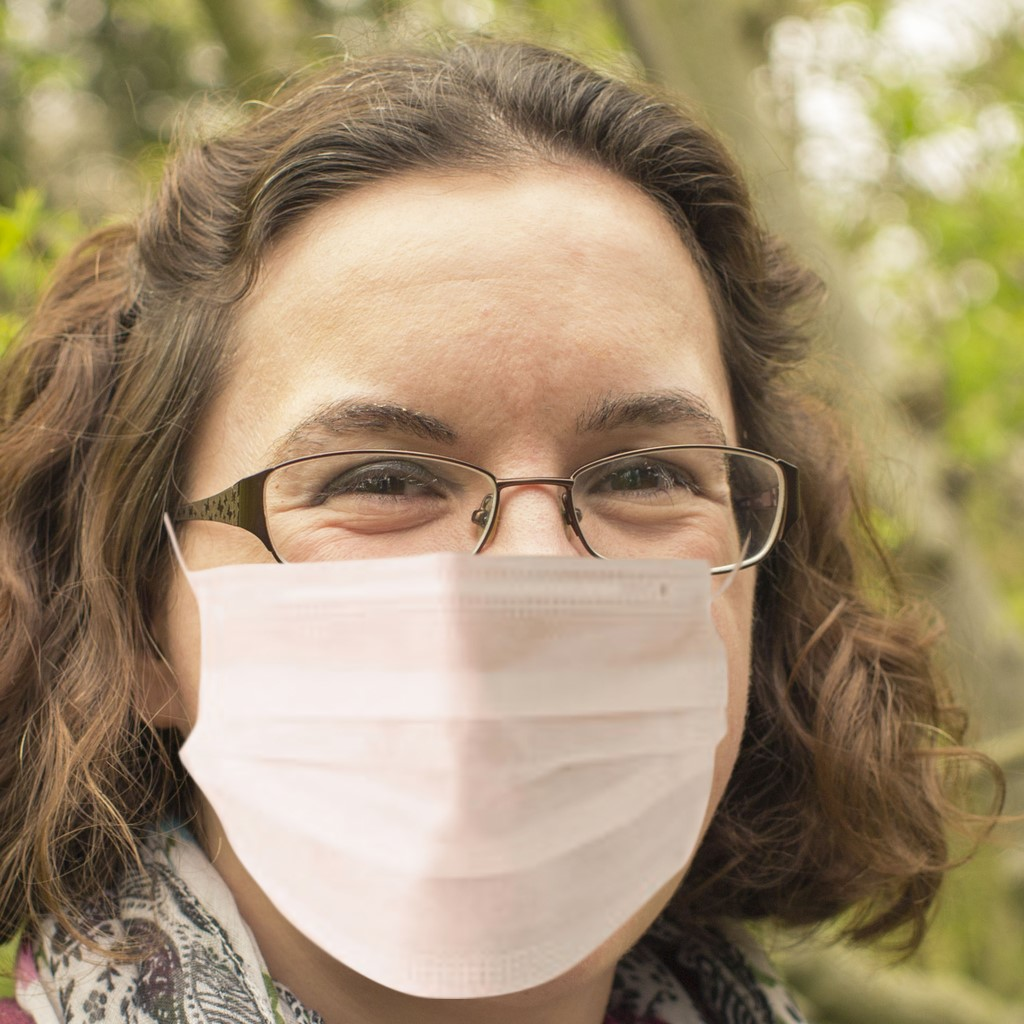con_mascara: (159, 139, 751, 971)
